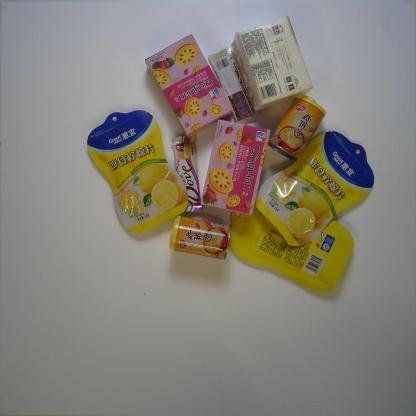Canned Food: (266, 94, 327, 162), (168, 215, 232, 260)
Chocolate: (208, 48, 258, 127), (171, 134, 203, 214)
Dessert: (144, 34, 233, 138), (201, 119, 271, 216)
Dried Fruit: (255, 131, 374, 247), (228, 191, 354, 294), (86, 110, 188, 233)
Tissue: (231, 16, 313, 112)
